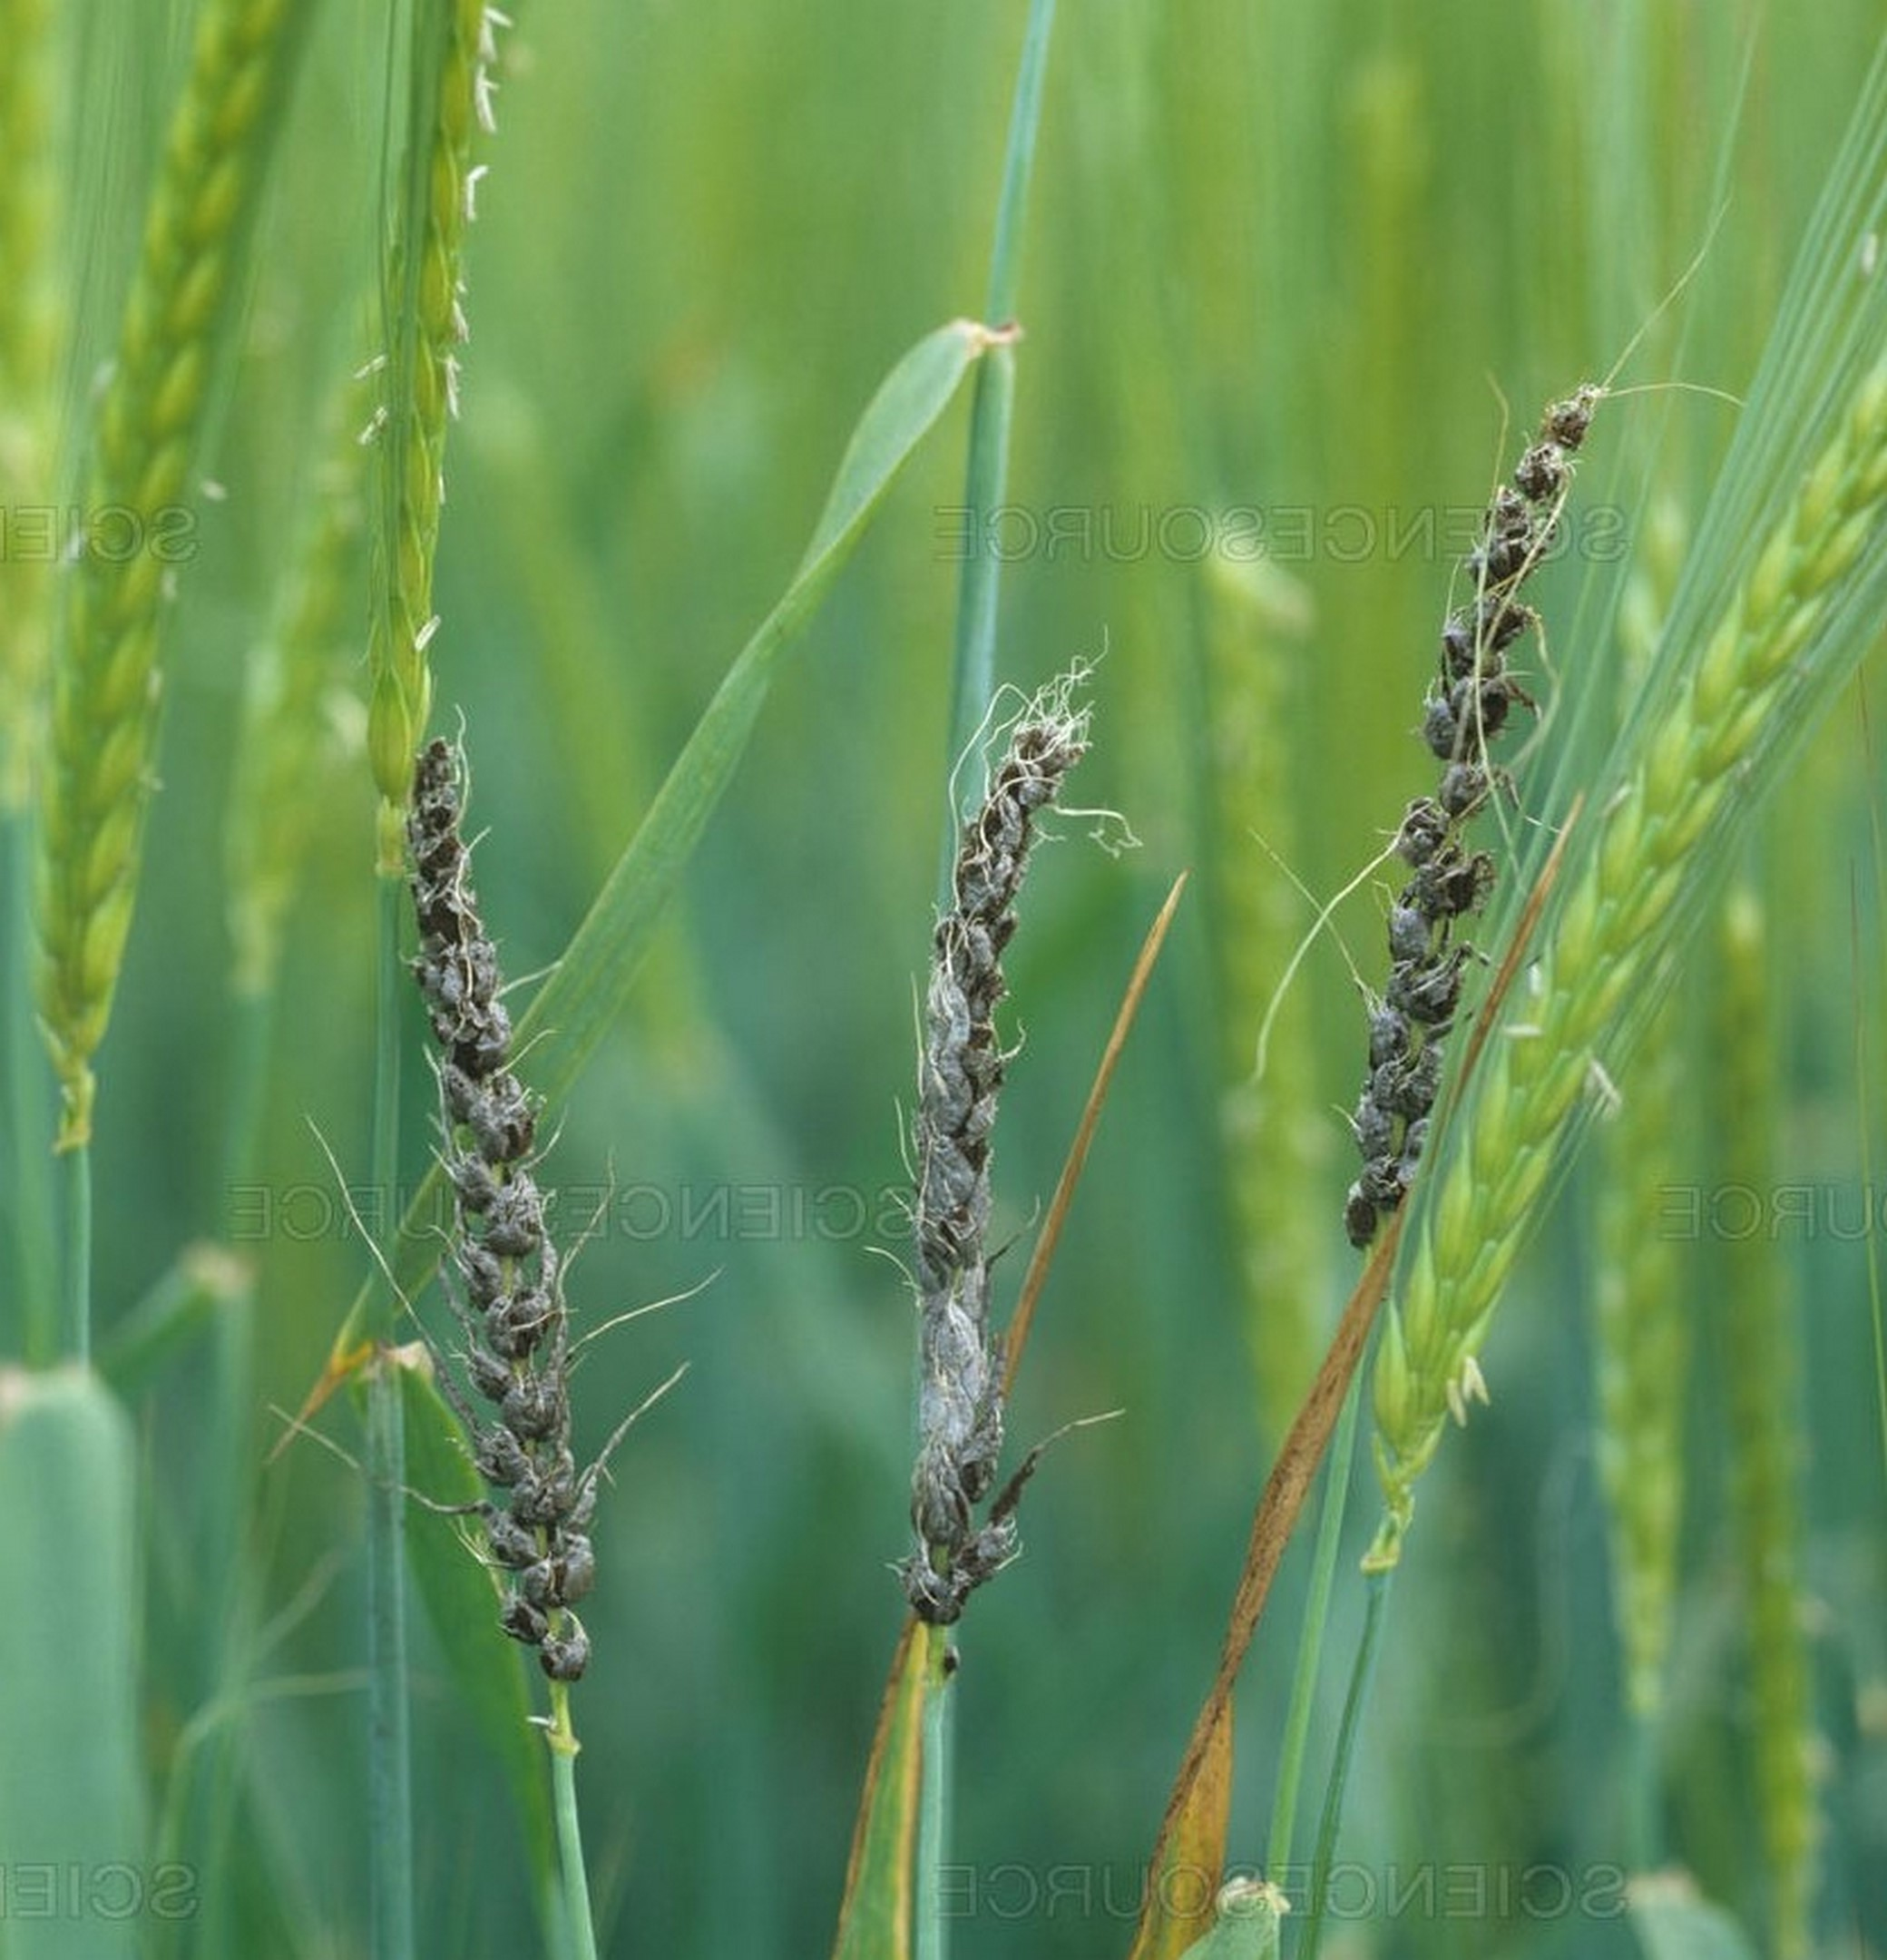Wheat Loose Smut: (1312, 383, 1637, 1270), (373, 742, 658, 1650), (887, 663, 1116, 1628)
